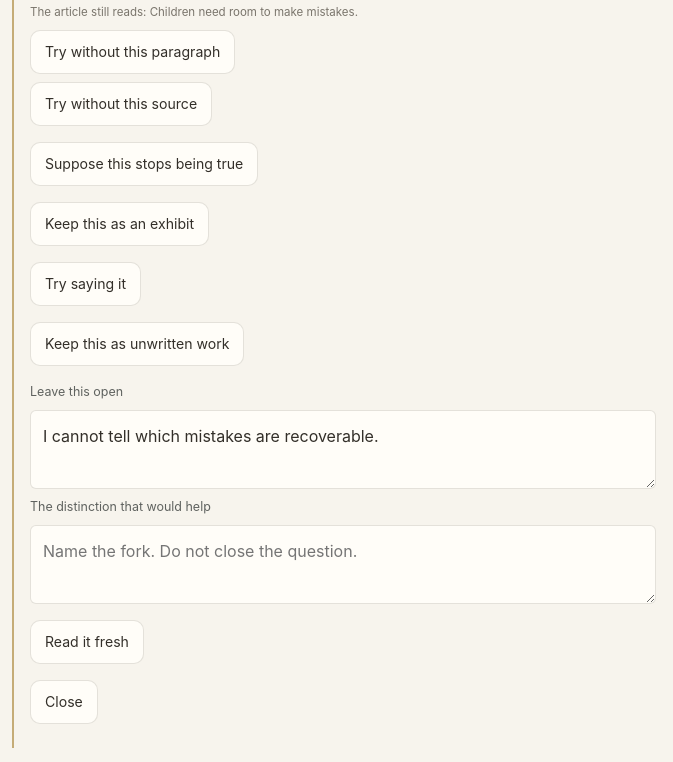
OpenSentence › lets Escape leave the fresh view without closing the pocket
(page scrolled)
Click the button "Read it fresh" at (87, 642), box x1=30 y1=620 x2=144 y2=664
(page scrolled)
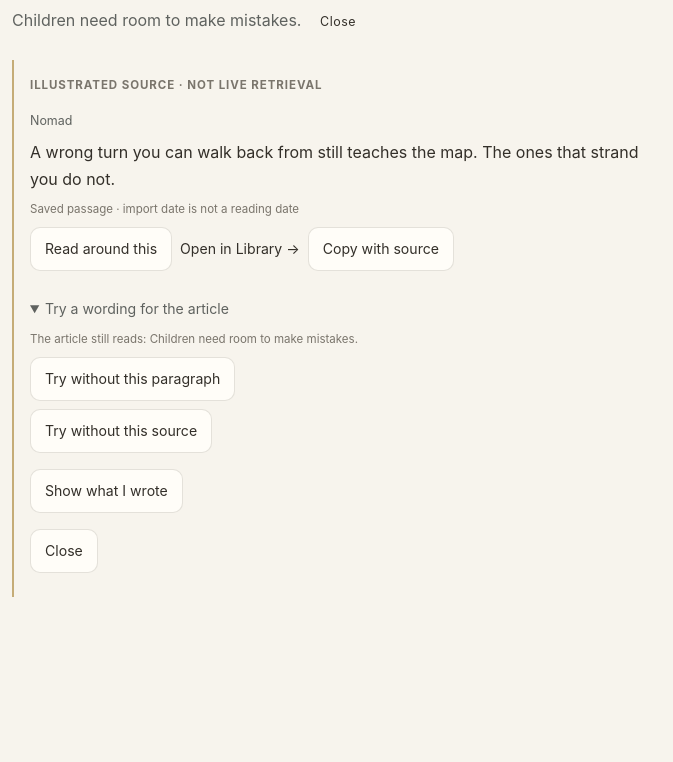
Press Escape
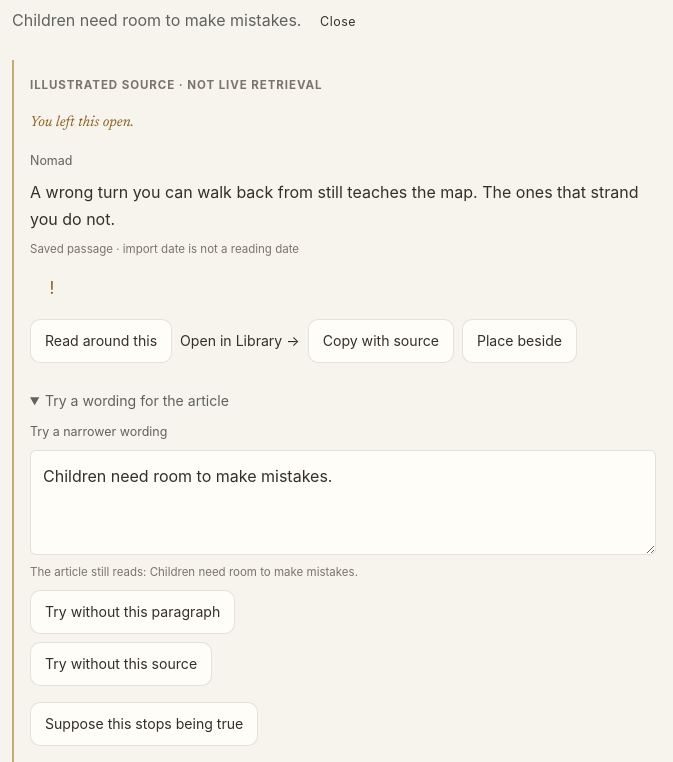
Now the text box labelled "Try a narrower wording" is shown, box x1=30 y1=450 x2=656 y2=555
